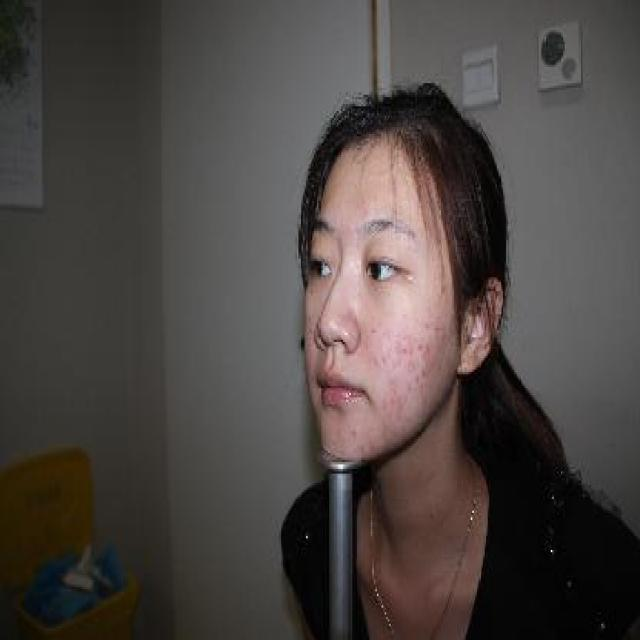blackhead: (351, 428, 357, 435)
nodules: (371, 355, 380, 366), (426, 343, 434, 352), (402, 341, 406, 355), (416, 339, 422, 348), (382, 350, 388, 359), (360, 200, 366, 207), (362, 207, 368, 214), (422, 221, 428, 228), (408, 359, 414, 366), (360, 194, 365, 201)
